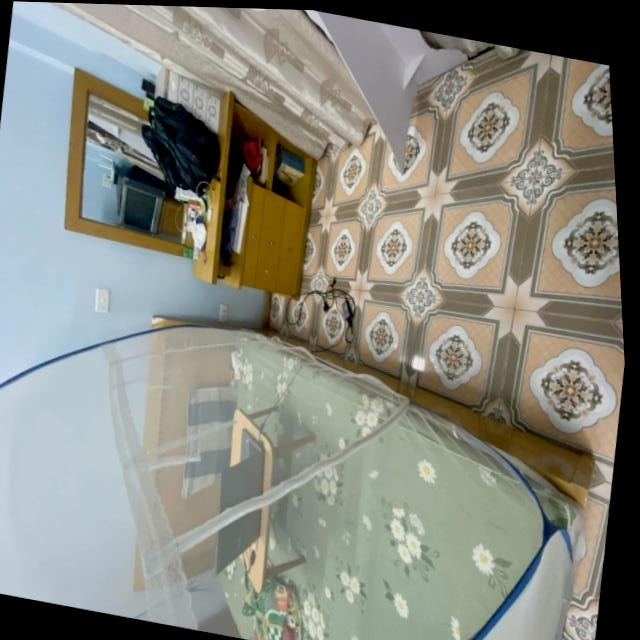outlet: (216, 300, 235, 329)
